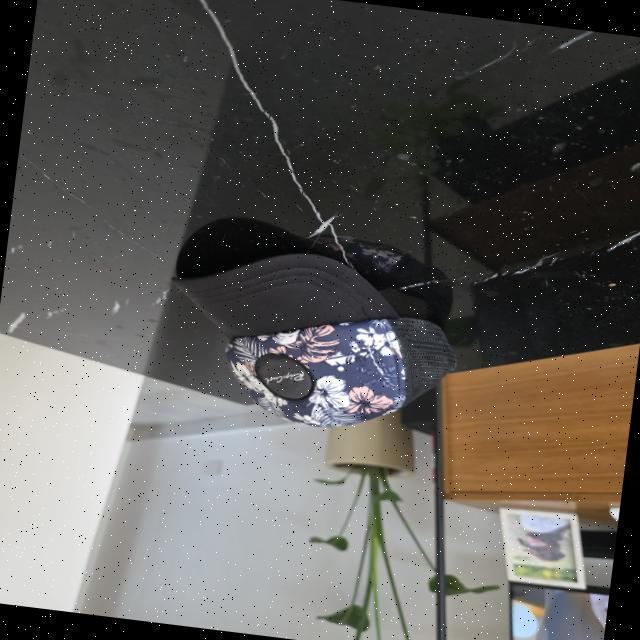Gorra: (149, 232, 460, 445)
